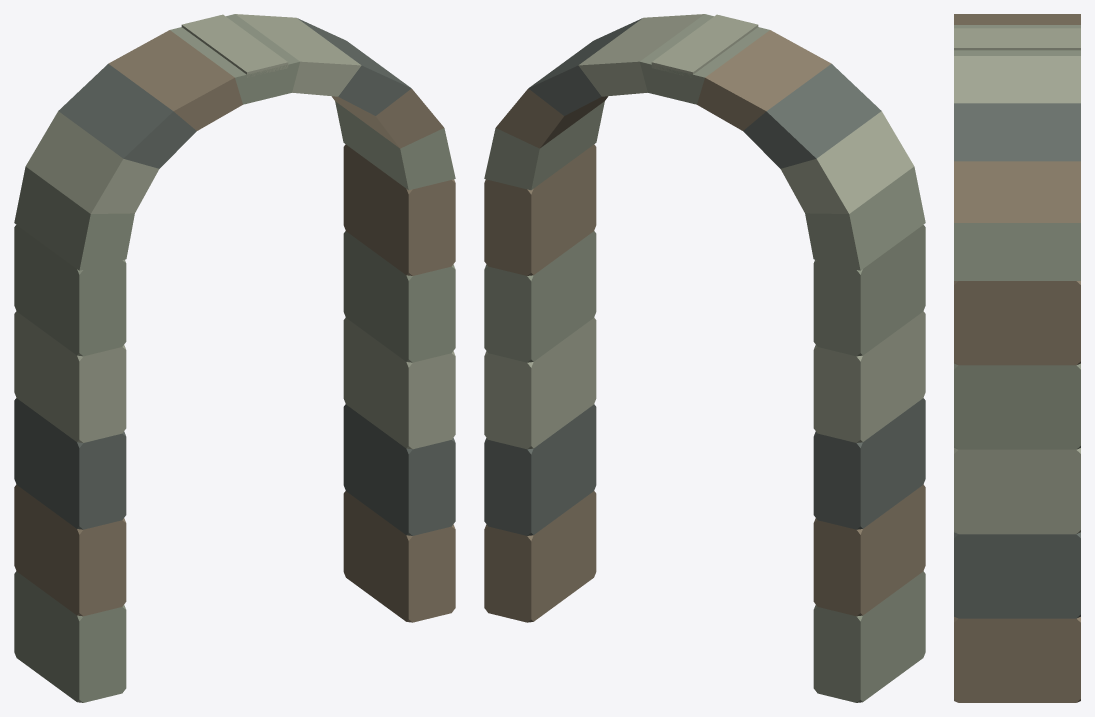
File: TW_RUIN_ARCH_DOOR_A_LOD0.glb
3 renders of one model, left to right at view 1: azimuth 30°, elevation 25°; view 2: azimuth 150°, elevation 25°; view 3: azimuth 270°, elevation 25°, orthographic. The views are drawn at different scales.
Parts seen in each view (by area): view 1: TW_RUIN_ARCH_DOOR_A; view 2: TW_RUIN_ARCH_DOOR_A; view 3: TW_RUIN_ARCH_DOOR_A.
Part boxes in pixels (left/top/right/bottom): TW_RUIN_ARCH_DOOR_A: left=14, top=14, right=455, bottom=702; TW_RUIN_ARCH_DOOR_A: left=484, top=14, right=925, bottom=702; TW_RUIN_ARCH_DOOR_A: left=954, top=14, right=1080, bottom=702.
Bounding box in the file's own units: 2 × 3 × 0.6.
